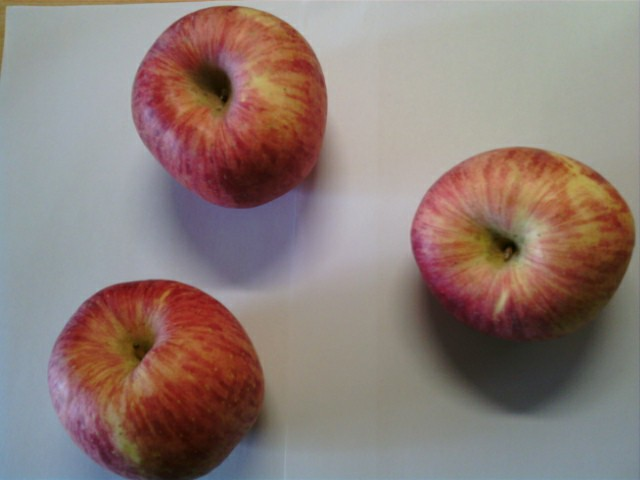normal_apple: (407, 141, 636, 347), (43, 275, 268, 478), (129, 5, 330, 209)
